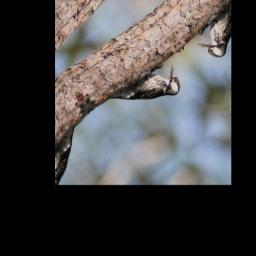Woodpecker: (107, 53, 188, 132)
